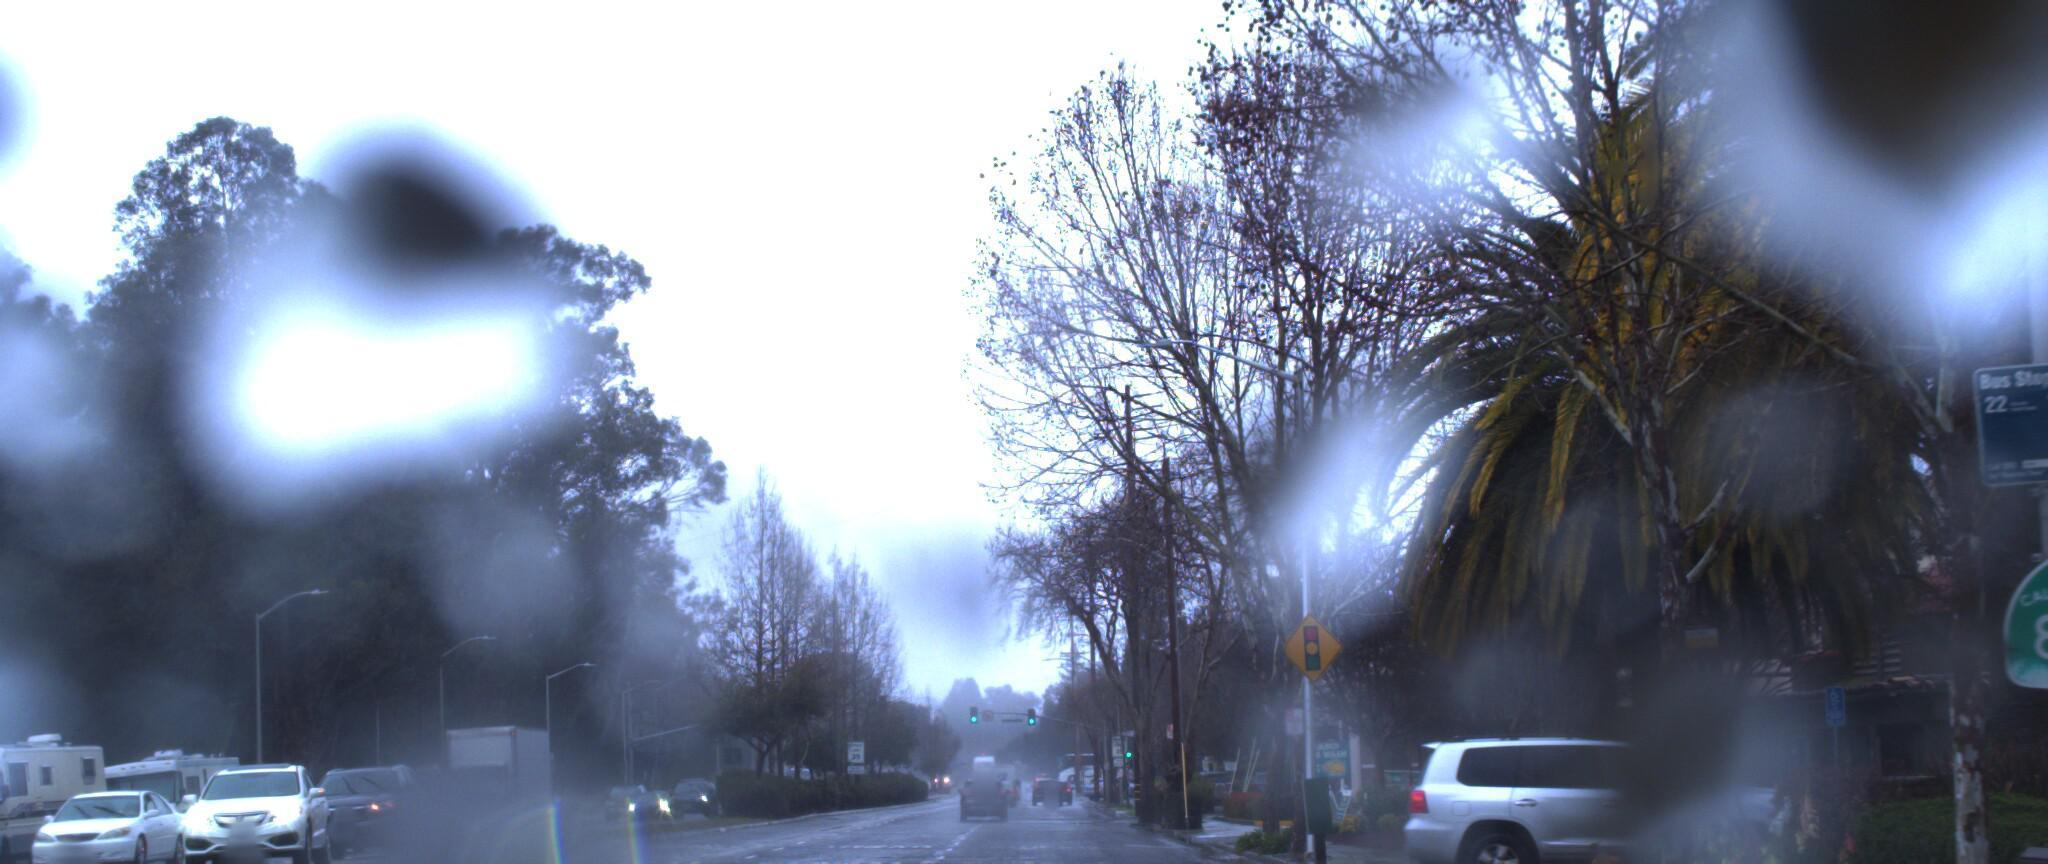car: (1371, 703, 1819, 864), (159, 750, 344, 864), (10, 774, 189, 864), (283, 757, 434, 856), (2000, 706, 2048, 864)
other_vehicle: (0, 720, 114, 864)
